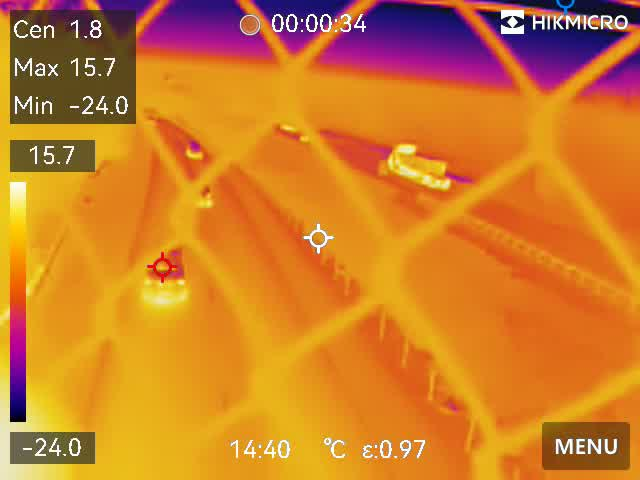heavyTruck: (380, 139, 456, 191)
vehicle: (136, 238, 193, 300), (187, 179, 216, 208), (181, 137, 206, 163)
